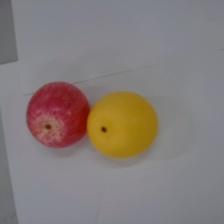red: (25, 80, 90, 149)
yellow: (86, 90, 159, 160)
